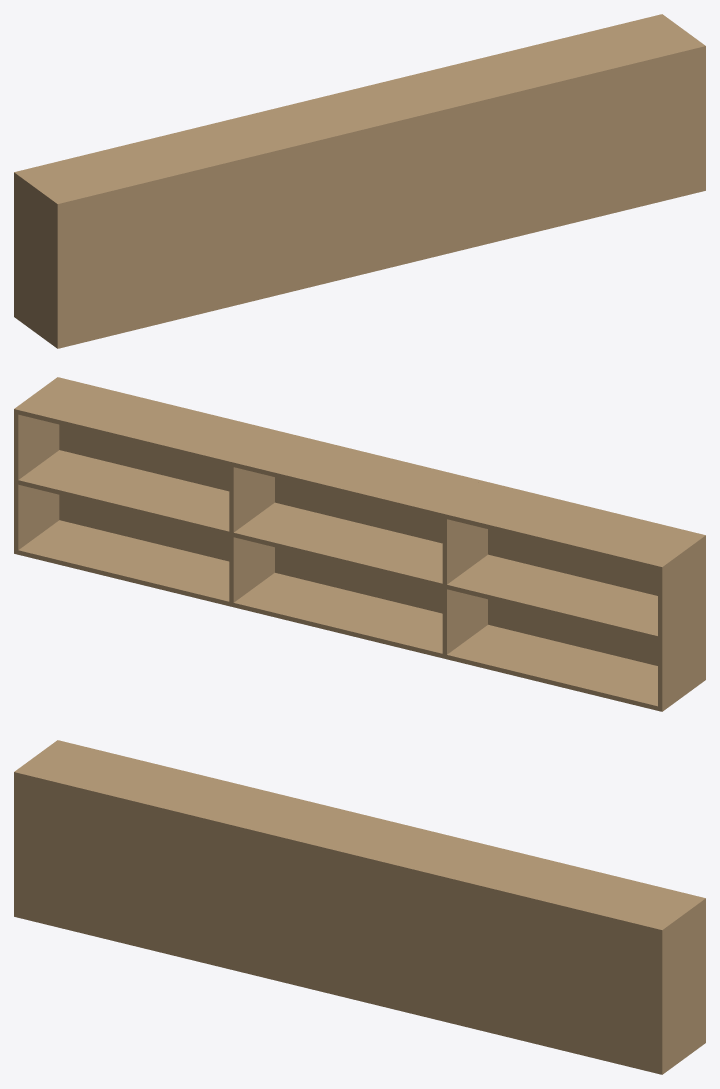
The model's file is parametric-wall-shelf-crew-3000x0350x0640.glb.
The picture shows the model from 3 angles, top to bottom: view 1: azimuth 30°, elevation 25°; view 2: azimuth 150°, elevation 25°; view 3: azimuth 330°, elevation 25°; orthographic projection.
Parts seen in each view (by area): view 1: backboard, top, end:-1; view 2: top, backboard, shelf, bottom, end:-1, end:1, divider:1, divider:2; view 3: backboard, top, end:1.
Part boxes in pixels (x1,y1,x2,y2): backboard: (55,44,705,348); top: (18,15,698,201); end:-1: (14,171,58,346); top: (18,380,698,570); backboard: (55,377,705,681); shelf: (18,450,657,640); bottom: (18,520,657,710); end:-1: (658,536,703,711); end:1: (14,379,59,554); divider:1: (442,518,487,654); divider:2: (229,466,274,602); backboard: (14,770,664,1074); top: (21,741,701,927); end:1: (661,897,705,1072).
Size of the model in its own units: 3 by 0.64 by 0.35.
